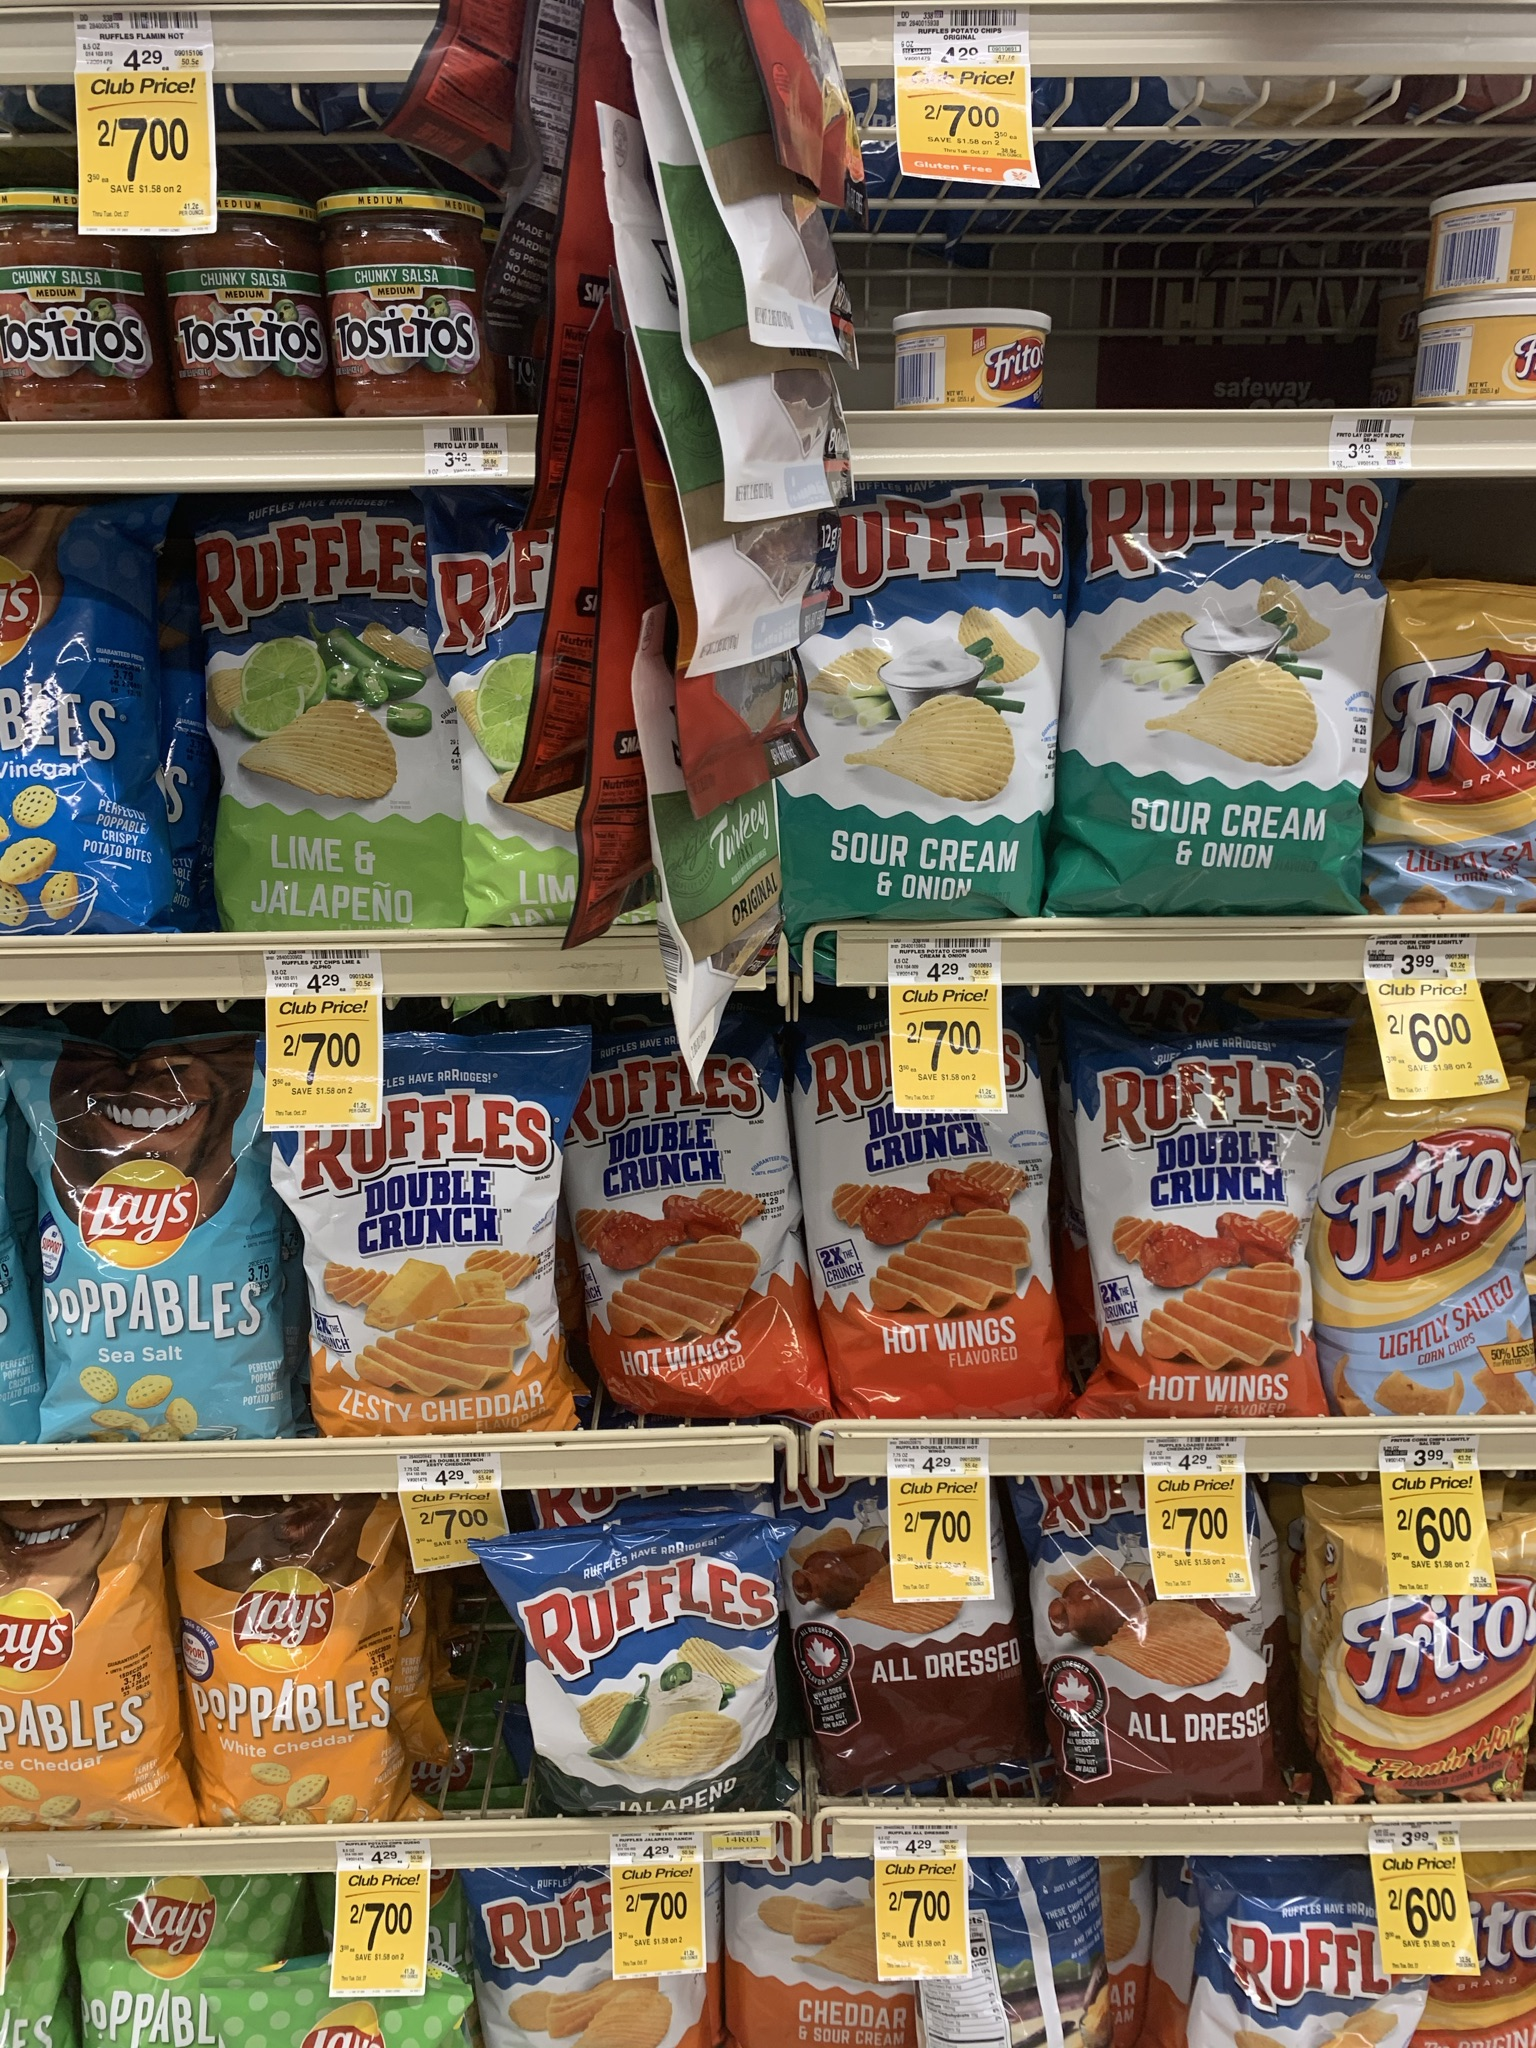chip: (1073, 469, 1371, 914), (779, 489, 1058, 926), (192, 506, 463, 927), (284, 1056, 552, 1438), (799, 1035, 1073, 1406), (465, 506, 699, 922), (32, 1050, 274, 1442), (503, 1508, 812, 1809), (563, 1040, 812, 1398), (1092, 1032, 1317, 1409), (1334, 1008, 1525, 1426), (797, 1471, 1025, 1816), (1037, 1479, 1275, 1793), (2, 508, 168, 943), (190, 1506, 407, 1822), (1309, 1480, 1531, 1784), (10, 1519, 173, 1843), (473, 1879, 703, 2048), (1197, 1885, 1418, 2048)
